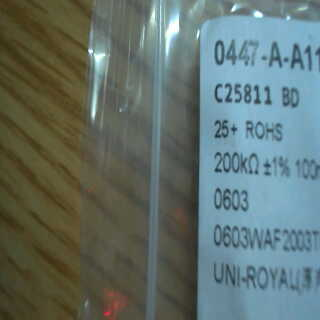200kR: (213, 145, 262, 182)
